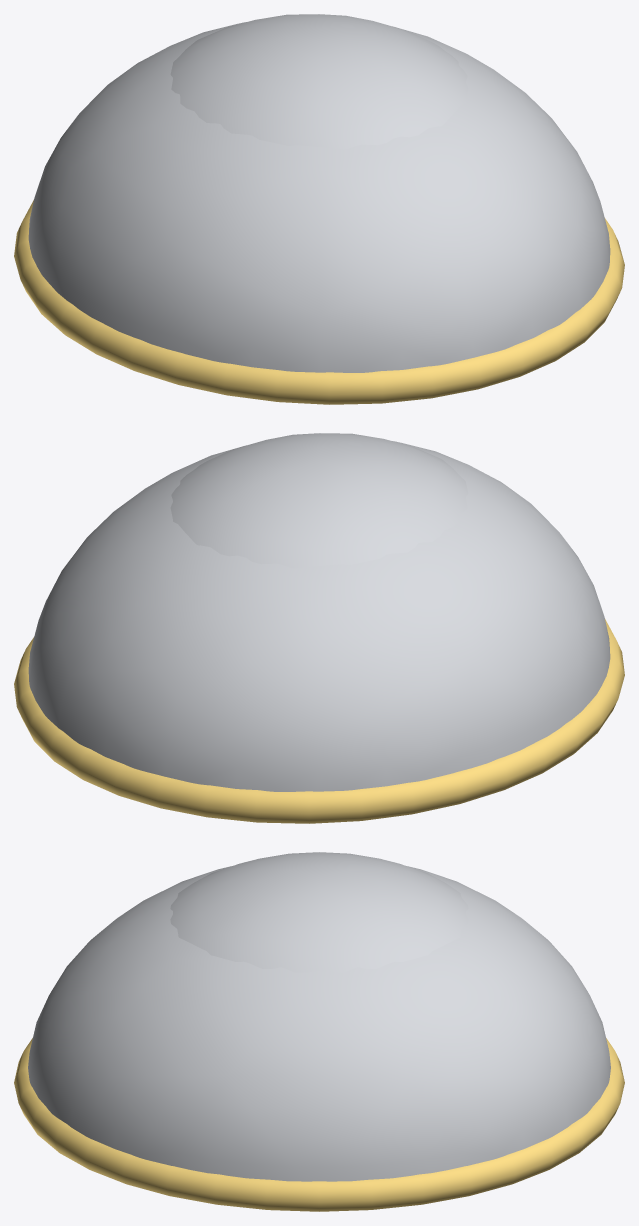
File: SM_Paladin_Pauldron.glb
3 renders of one model, top to bottom at view 1: azimuth 30°, elevation 25°; view 2: azimuth 150°, elevation 25°; view 3: azimuth 270°, elevation 25°, orthographic. The views are drawn at different scales.
Parts seen in each view (by area): view 1: SM_Paladin_Pauldron; view 2: SM_Paladin_Pauldron; view 3: SM_Paladin_Pauldron.
Part boxes in pixels (bbox=[...]): SM_Paladin_Pauldron: bbox=[14, 14, 624, 404]; SM_Paladin_Pauldron: bbox=[14, 433, 624, 823]; SM_Paladin_Pauldron: bbox=[14, 852, 624, 1211].
Size of the model in its own units: 0.201 by 0.0875 by 0.217.
